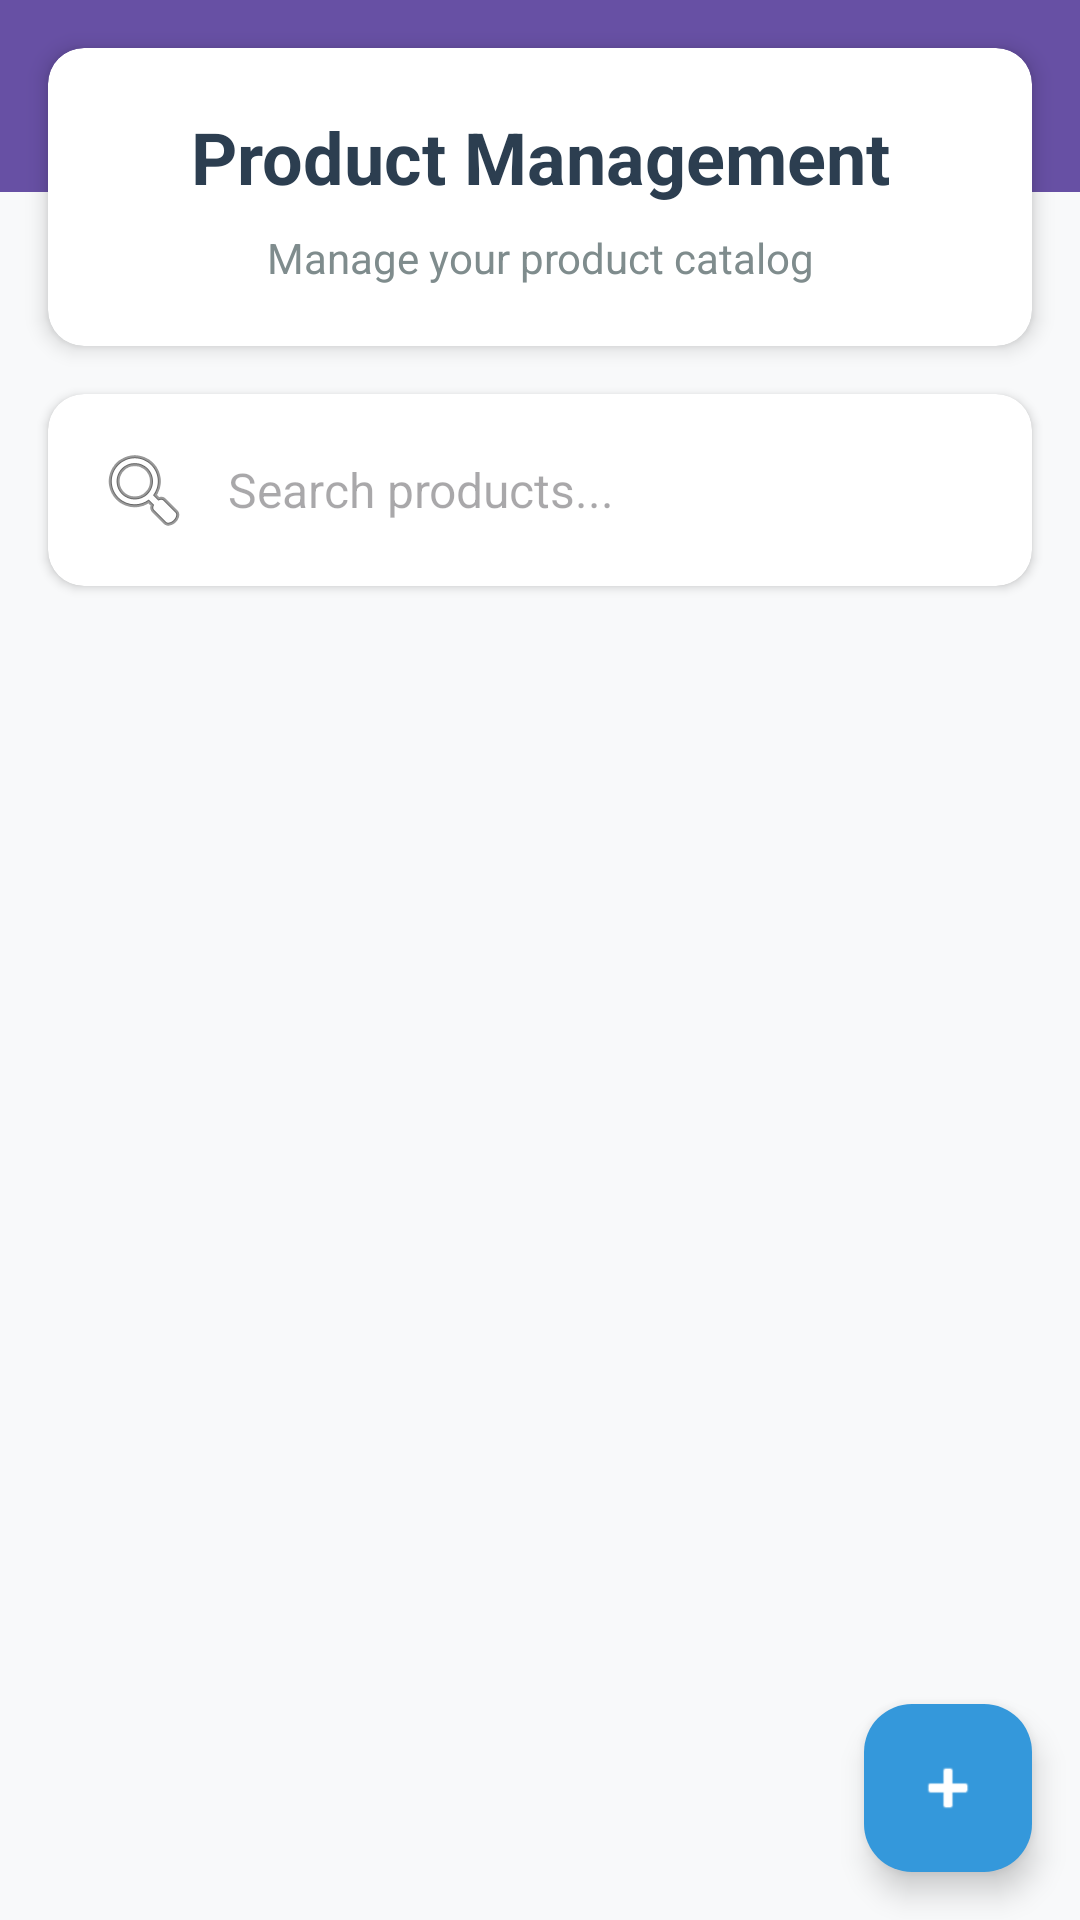

Named icons in this screenshot (1080 x 1920) and their bounding boxes, (x1, y1, x2, y2):
Add new product: (864, 1704, 1032, 1872)
